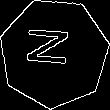N_E: (28, 31, 80, 75)
